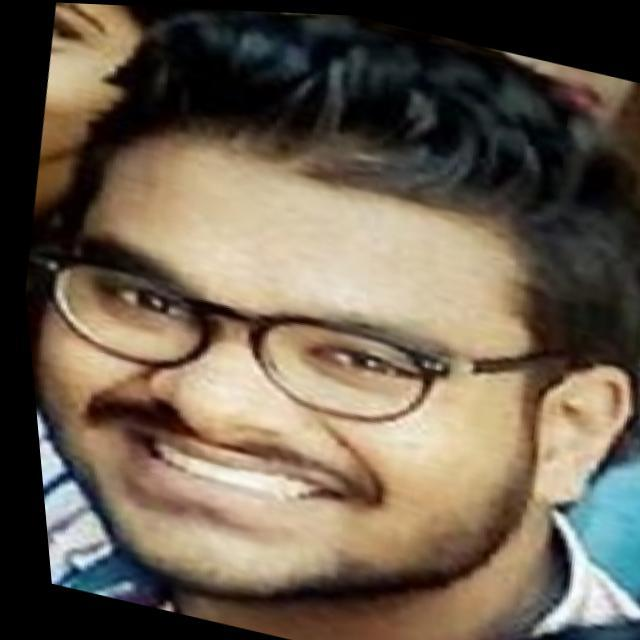Nonhelmet: (28, 6, 637, 632)
